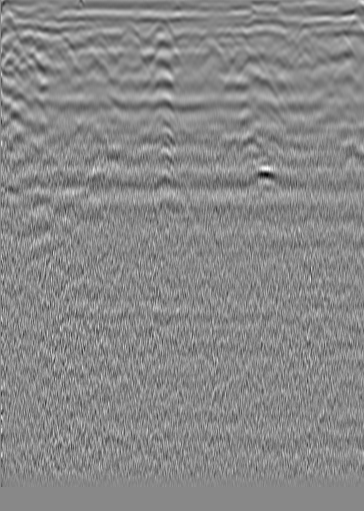가스: (250, 157, 286, 190)
상수: (2, 13, 22, 33)
오수: (323, 18, 343, 38)
우수: (153, 16, 173, 36)
